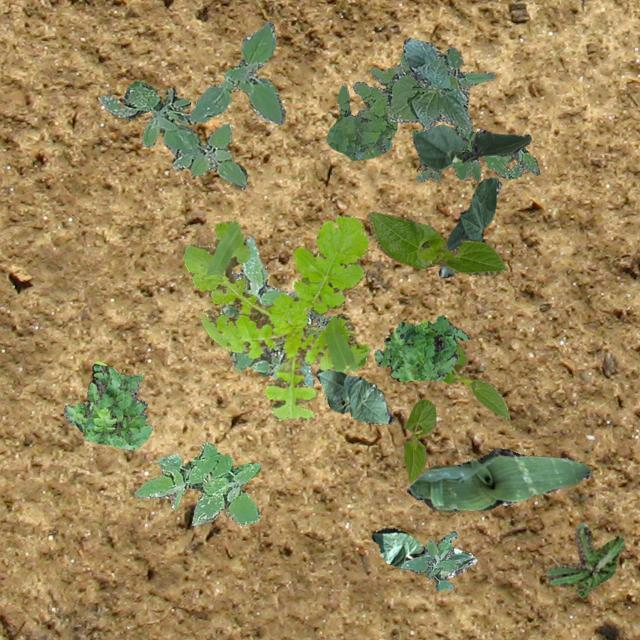crop: (406, 448, 590, 512), (386, 36, 494, 132), (366, 210, 506, 274), (438, 176, 500, 276), (371, 526, 476, 578), (412, 124, 530, 170), (442, 340, 508, 418), (316, 368, 392, 422), (402, 398, 436, 482)
weed: (182, 213, 368, 420), (96, 20, 284, 188), (220, 234, 312, 386), (133, 440, 260, 524), (326, 54, 412, 160), (62, 361, 152, 448), (410, 125, 540, 182), (372, 314, 468, 380), (544, 524, 624, 598), (400, 530, 470, 590), (304, 310, 332, 338)
